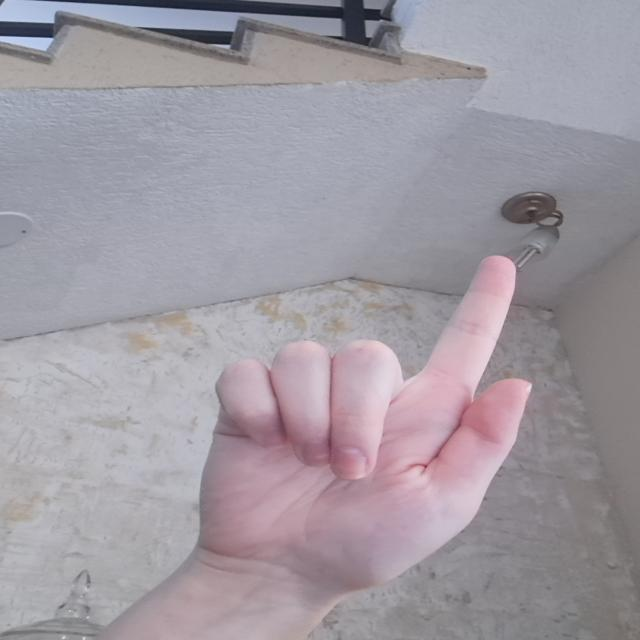G: (173, 251, 541, 594)
